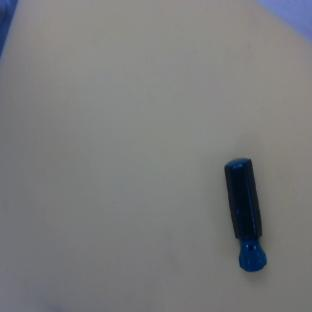part_2_bad: (222, 156, 269, 273)
